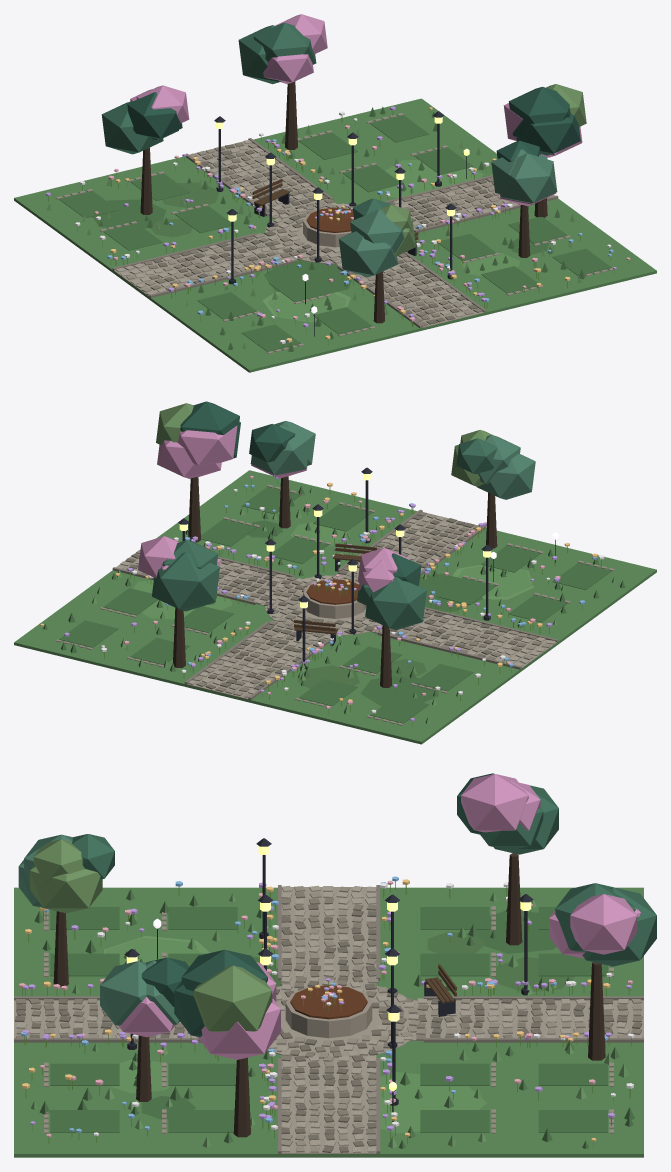
The model's file is park_C_alt1.glb.
3 renders of one model, top to bottom at view 1: azimuth 30°, elevation 25°; view 2: azimuth 150°, elevation 25°; view 3: azimuth 270°, elevation 25°, orthographic. The views are drawn at different scales.
Visible parts, largest first — view 1: park_C_alt1; view 2: park_C_alt1; view 3: park_C_alt1.
Part boxes in pixels (x1,y1,x2,y2): park_C_alt1: (14, 14, 656, 372); park_C_alt1: (14, 401, 656, 744); park_C_alt1: (14, 773, 656, 1157).
Size of the model in its own units: 16.3 by 5.17 by 16.33.
